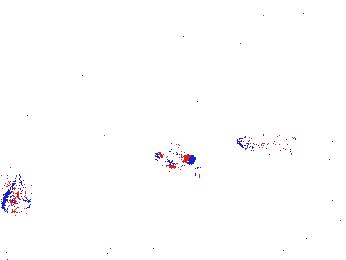X-ray fish: (3, 163, 28, 214)
red belly glassfish: (154, 151, 206, 181), (166, 141, 196, 166)
redtail glassfish: (235, 127, 301, 162)
